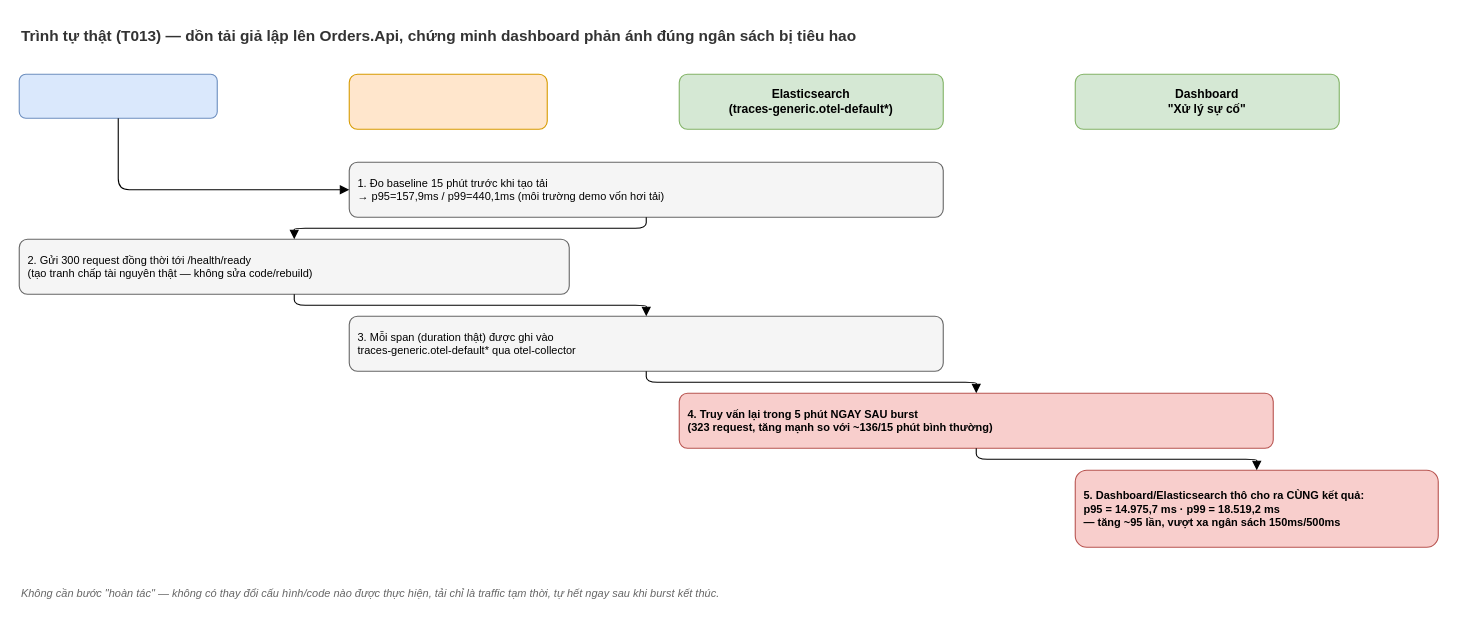
Image size: 1469x642. Some labels were removed from this diagram. The shapes that lost their labels are listed below. From the top down, each one's box as (x1, y1, x2, y2) in pixels, then its label:
(18, 73, 217, 118): Người xác thực
(348, 73, 547, 129): Orders.Api (/health/ready)
